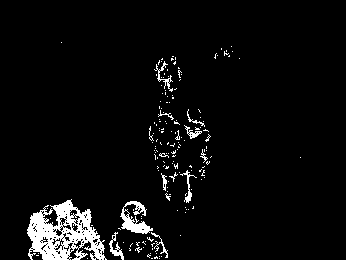person: (107, 200, 171, 260), (177, 106, 212, 204), (148, 102, 181, 202)
